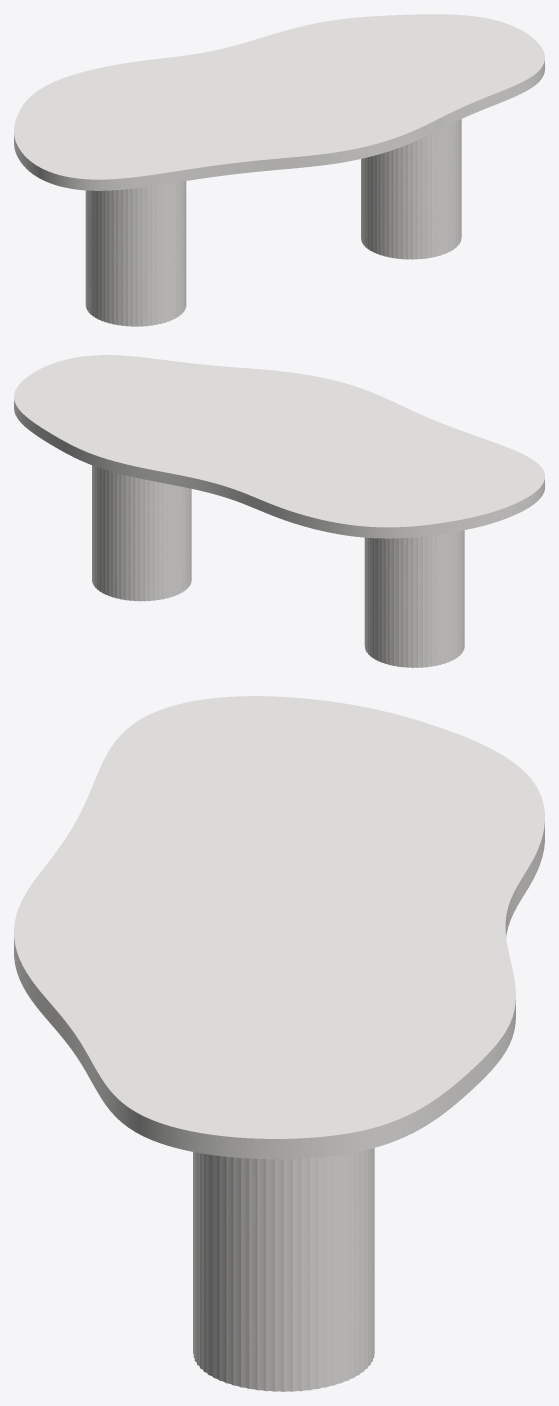
Rendered from purewhite_toplast_standard_ripplesecond.glb.
The picture shows the model from 3 angles, top to bottom: view 1: azimuth 30°, elevation 25°; view 2: azimuth 150°, elevation 25°; view 3: azimuth 270°, elevation 25°; orthographic projection. The views are drawn at different scales.
Visible parts, largest first — view 1: standard_toplast, ripplesecond; view 2: standard_toplast, ripplesecond; view 3: standard_toplast, ripplesecond.
Boxes of the visible parts, left/top/right/bottom form: standard_toplast: left=14, top=14, right=544, bottom=190; ripplesecond: left=85, top=119, right=461, bottom=326; standard_toplast: left=14, top=355, right=544, bottom=538; ripplesecond: left=92, top=465, right=464, bottom=667; standard_toplast: left=14, top=696, right=544, bottom=1159; ripplesecond: left=193, top=1148, right=374, bottom=1391.
Bounding box in the file's own units: 7.5 × 2.5 × 3.8.
Materials: 1 (1 with a texture image).
